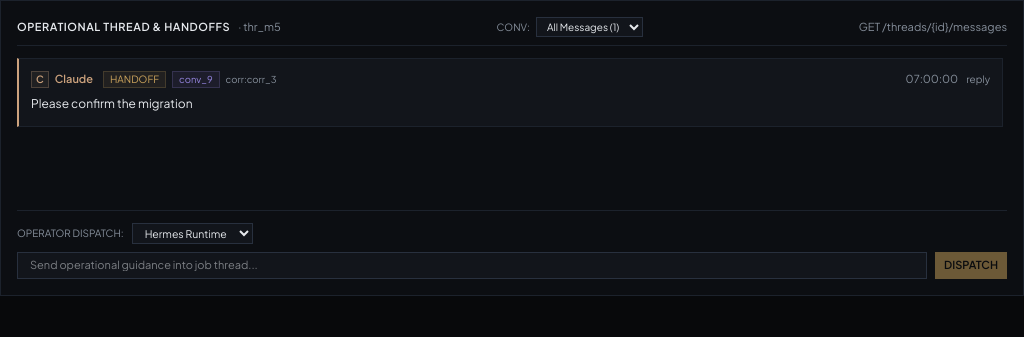
Test case: M5 F3: a reply carries its reply context, and clears only on success › a failed send keeps the typed text and the reply target
Click the button titled "Reply to this message". click: (978, 80)
box: x1=966 y1=72 x2=990 y2=87
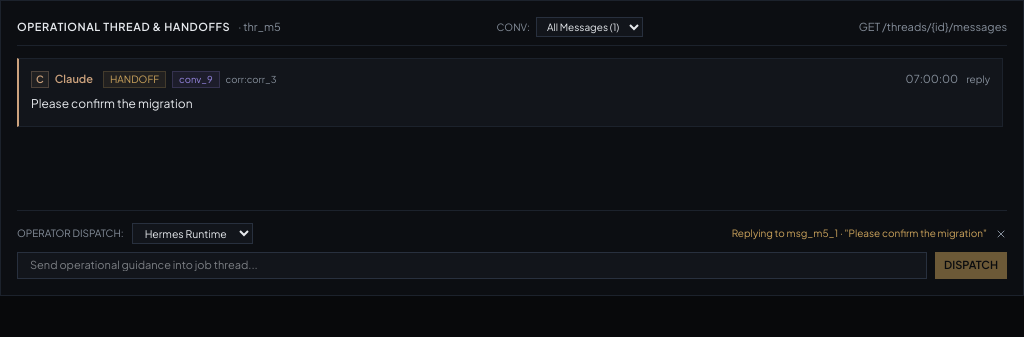
Type "confirmed" into the field with placeholder "Send operational guidance into job thread...". click: (472, 265)
box: x1=17 y1=252 x2=927 y2=278
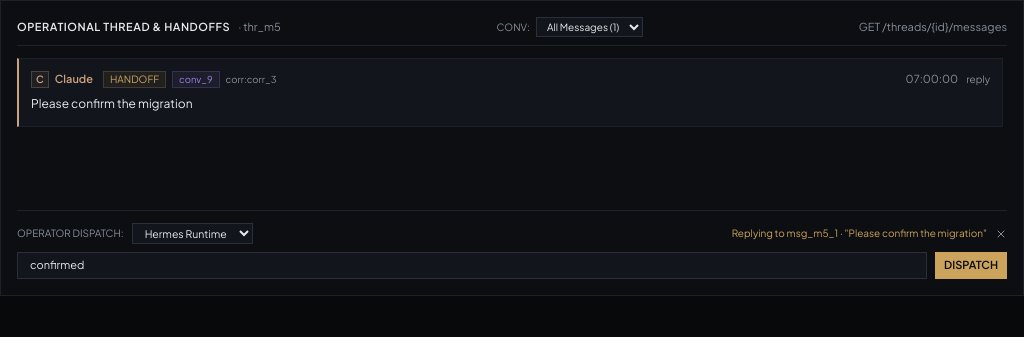
Click the button "DISPATCH". click: (971, 265)
box: x1=935 y1=252 x2=1007 y2=278
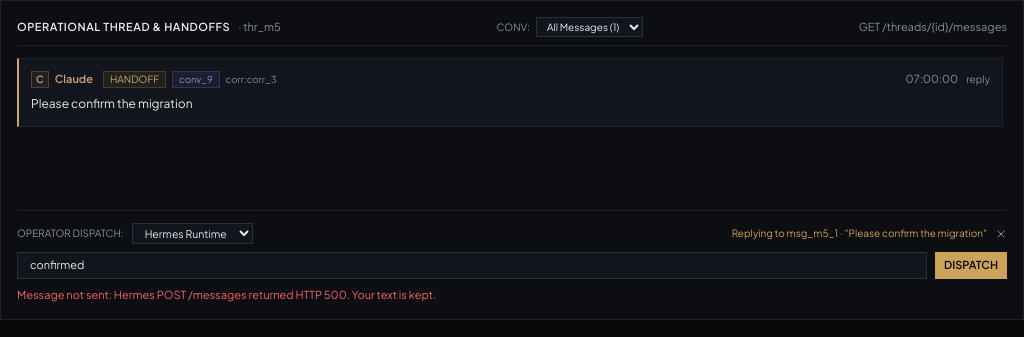
Check: the text "Replying to msg_m5_1 · \"Please confirm the migration\"" is shown, box x1=732 y1=226 x2=987 y2=241
Check: the text "Message not sent: Hermes POST /messages returned HTTP 500. Your text is kept." is shown, box x1=17 y1=288 x2=436 y2=300
